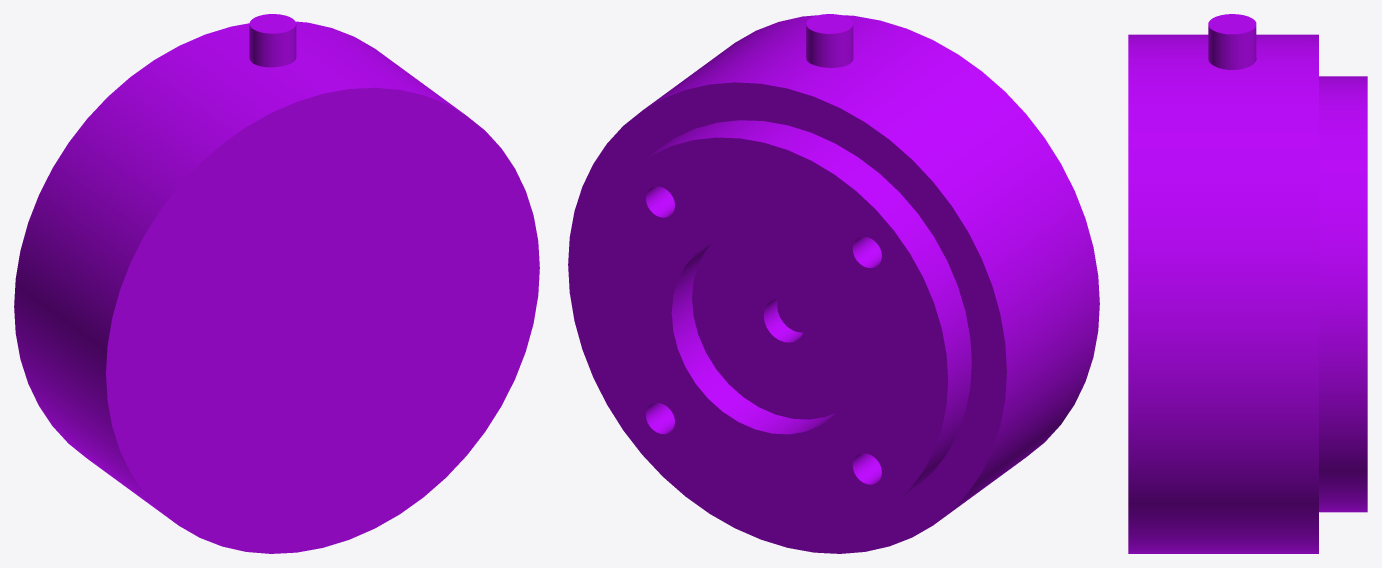
Rendered from wrist3.dae.
The picture shows the model from 3 angles, left to right: view 1: azimuth 30°, elevation 25°; view 2: azimuth 150°, elevation 25°; view 3: azimuth 270°, elevation 25°; orthographic projection. The views are drawn at different scales.
Parts seen in each view (by area): view 1: Actor0_001; view 2: Actor0_001; view 3: Actor0_001.
Part boxes in pixels (x1=…): Actor0_001: x1=14, y1=14, x2=539, y2=553; Actor0_001: x1=568, y1=14, x2=1099, y2=553; Actor0_001: x1=1128, y1=14, x2=1367, y2=553.
Size of the model in its own units: 0.075 by 0.0345 by 0.0805.
